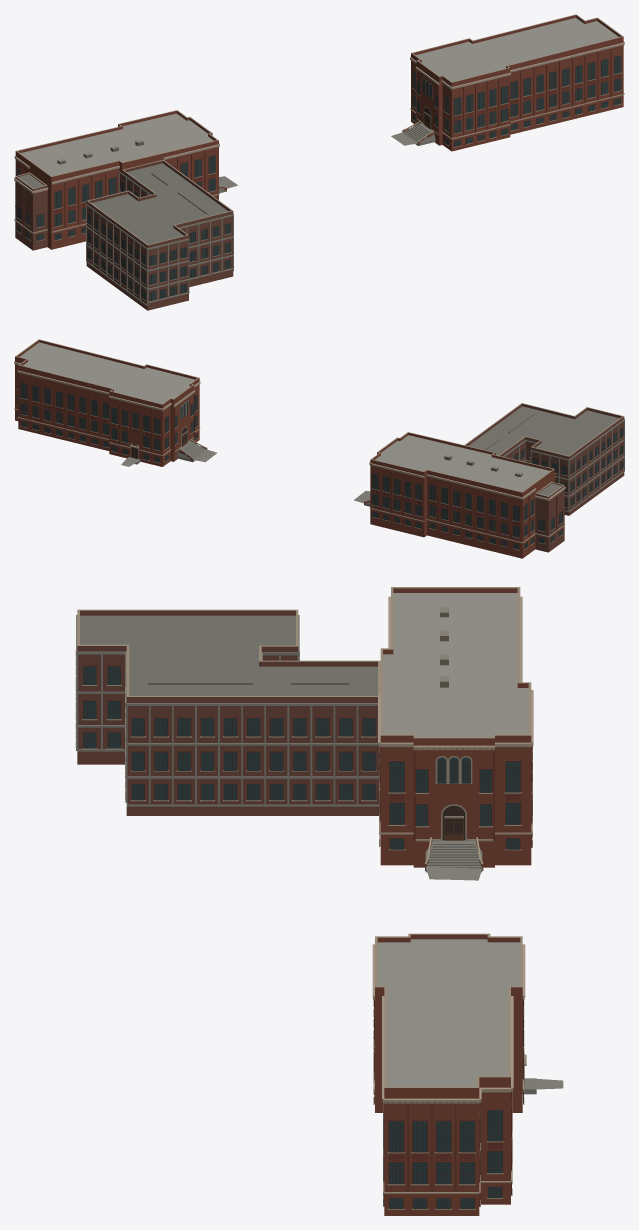
Rendered from site.glb.
The picture shows the model from 3 angles, top to bottom: view 1: azimuth 30°, elevation 25°; view 2: azimuth 150°, elevation 25°; view 3: azimuth 270°, elevation 25°; orthographic projection. The views are drawn at different scales.
Parts seen in each view (by area): view 1: roof-7ffcf31b, roof-f5cea51d; view 2: roof-7ffcf31b, roof-f5cea51d, memorial-quad-approaches; view 3: roof-7ffcf31b, roof-f5cea51d, memorial-quad-approaches.
Boxes of the visible parts, x1,y1,x2,y2 form: roof-7ffcf31b: (14,110,233,310); roof-f5cea51d: (402,14,624,151); roof-7ffcf31b: (364,403,624,558); roof-f5cea51d: (14,339,207,466); memorial-quad-approaches: (121,449,370,503); roof-7ffcf31b: (75,587,533,872); roof-f5cea51d: (372,933,536,1215); memorial-quad-approaches: (426,867,563,1089).
Size of the model in its own units: 139 by 17.05 by 55.11.
